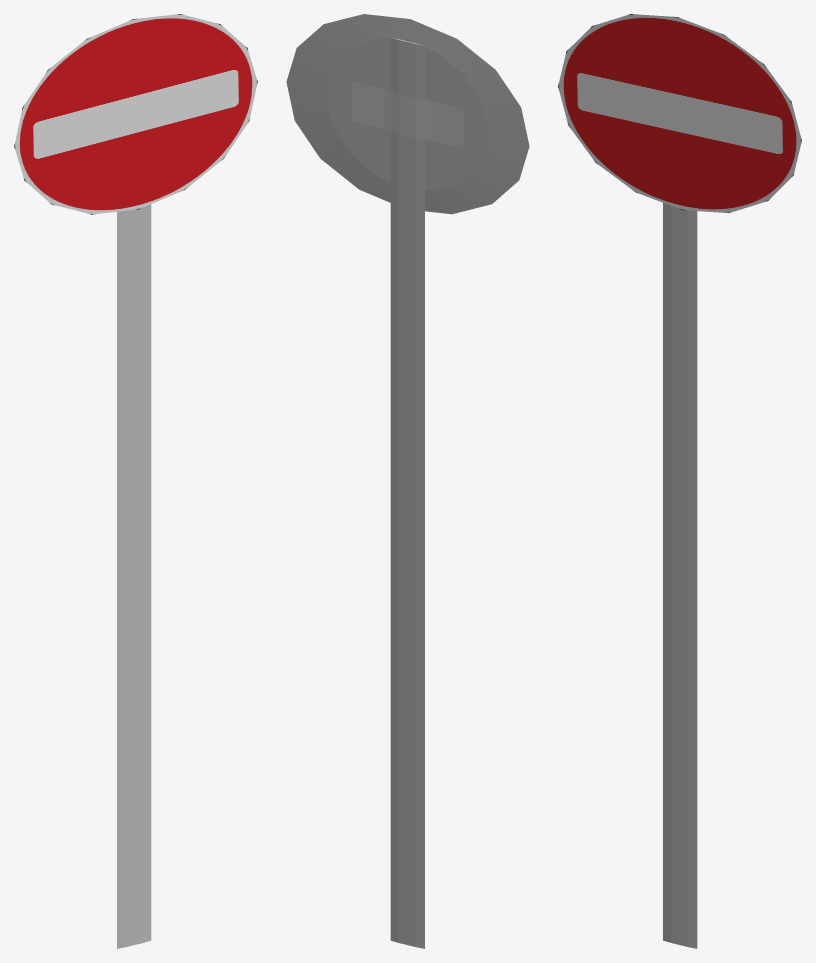
The model's file is girilmez.dae.
3 renders of one model, left to right at view 1: azimuth 30°, elevation 25°; view 2: azimuth 150°, elevation 25°; view 3: azimuth 330°, elevation 25°, orthographic.
Parts seen in each view (by area): view 1: Sign_Circle.005; view 2: Sign_Circle.005; view 3: Sign_Circle.005.
Part boxes in pixels (x1,y1,x2,y2): Sign_Circle.005: (14,14,257,948); Sign_Circle.005: (286,14,529,948); Sign_Circle.005: (558,14,801,948).
Size of the model in its own units: 0.6353 by 0.00621 by 2.31.
Materials: 3 (1 with a texture image).
